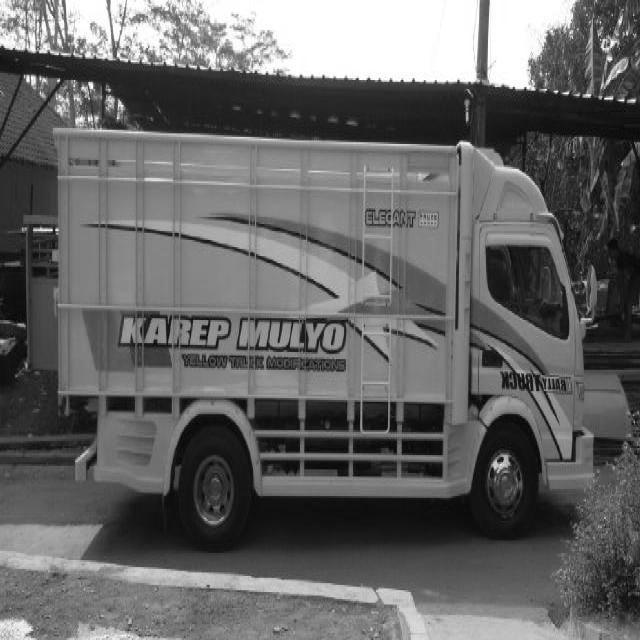truck: (437, 117, 605, 543)
